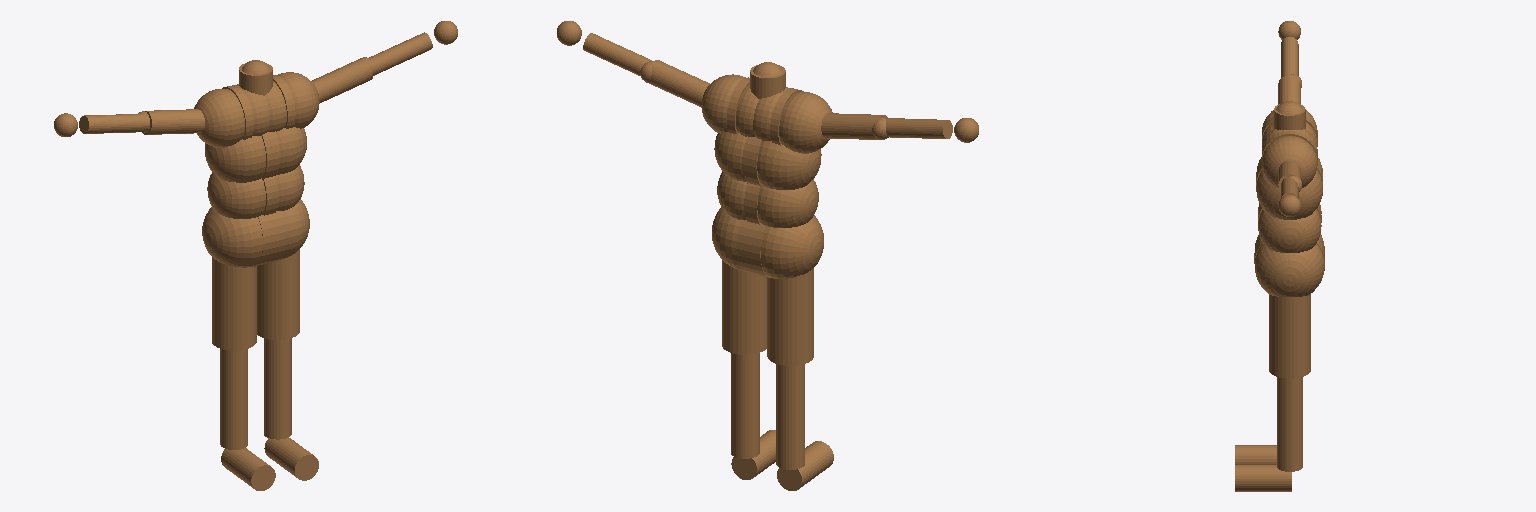
--- Facts derived from the render (not from the file) ---
3 views of the same robot in one strip: view 1: azimuth 30°, elevation 25°; view 2: azimuth 150°, elevation 25°; view 3: azimuth 270°, elevation 25° (orthographic).
Robot: assistive-human-extracted — 75 links, 74 joints (41 revolute, 33 fixed); root link base_link; default pose: joints at zero except 2 at the middle of their limits (joint11 = 1.77, joint18 = -1.77).
Links seen in each view (by area): view 1: link31, link38, link39, link32, link28---bottom-sphere, link3---bottom-sphere, base_link---bottom-sphere, link25---bottom-sphere, link35, link42, link20, link13 (+11 smaller); view 2: link31, link38, link32, link39, link28---bottom-sphere, link3---bottom-sphere, base_link---bottom-sphere, link25---bottom-sphere, link20, link6---top-sphere, link35, link13 (+13 smaller); view 3: link38, link28---top-sphere, link39, link25---top-sphere, link6---top-sphere, base_link---top-sphere, link42, link35, link15, link13, link7.
Link boxes in pixels (x1=…): link31: x1=212, y1=257, x2=256, y2=350; link38: x1=257, y1=249, x2=299, y2=339; link39: x1=264, y1=338, x2=291, y2=439; link32: x1=220, y1=349, x2=247, y2=449; link28---bottom-sphere: x1=202, y1=207, x2=262, y2=267; link3---bottom-sphere: x1=194, y1=89, x2=244, y2=147; base_link---bottom-sphere: x1=205, y1=136, x2=265, y2=182; link25---bottom-sphere: x1=207, y1=172, x2=265, y2=218; link35: x1=221, y1=448, x2=275, y2=490; link42: x1=264, y1=437, x2=318, y2=480; link20: x1=311, y1=58, x2=372, y2=102; link13: x1=142, y1=109, x2=204, y2=134; link31: x1=767, y1=268, x2=813, y2=365; link38: x1=722, y1=260, x2=766, y2=354; link32: x1=776, y1=364, x2=804, y2=469; link39: x1=731, y1=353, x2=759, y2=458; link28---bottom-sphere: x1=761, y1=215, x2=823, y2=278; link3---bottom-sphere: x1=779, y1=92, x2=832, y2=153; base_link---bottom-sphere: x1=757, y1=141, x2=821, y2=189; link25---bottom-sphere: x1=757, y1=179, x2=818, y2=227; link20: x1=649, y1=60, x2=709, y2=107; link6---top-sphere: x1=701, y1=74, x2=745, y2=133; link35: x1=777, y1=441, x2=833, y2=490; link13: x1=821, y1=113, x2=887, y2=139; link38: x1=1269, y1=294, x2=1310, y2=378; link28---top-sphere: x1=1255, y1=244, x2=1324, y2=296; link39: x1=1277, y1=377, x2=1302, y2=471; link25---top-sphere: x1=1258, y1=209, x2=1321, y2=252; link6---top-sphere: x1=1262, y1=136, x2=1317, y2=188; base_link---top-sphere: x1=1256, y1=170, x2=1322, y2=219; link42: x1=1235, y1=465, x2=1291, y2=491; link35: x1=1235, y1=445, x2=1276, y2=464; link15: x1=1281, y1=37, x2=1298, y2=77; link13: x1=1278, y1=75, x2=1300, y2=104; link7: x1=1274, y1=104, x2=1305, y2=129.
Bounding box of the posed robot: 1.64 × 0.341 × 1.58 m (x, y, z).
Geometry: only primitive shapes (box / cylinder / sphere) drawn; not drawn: 1 mesh visual (reference in a form the renderer does not follow).

The robot description file, URDF, robot "assistive-human-extracted":
<?xml version="1.0"?>
<robot name="assistive-human-extracted">
  <link name="base_link">
    <visual>
      <origin xyz="0.0 0.0 0.0" rpy="-0.0 1.5707963267948966 0.0"/>
      <geometry>
        <cylinder radius="0.127" length="0.056"/>
      </geometry>
      <material name="color-171-128-85-255">
        <color rgba="0.672940731048584 0.504705548286438 0.336470365524292 1.0"/>
      </material>
    </visual>
    <collision>
      <origin xyz="0.0 0.0 0.0" rpy="-0.0 1.5707963267948966 0.0"/>
      <geometry>
        <cylinder radius="0.127" length="0.056"/>
      </geometry>
    </collision>
    <inertial>
      <origin xyz="0.0 0.0 0.0" rpy="0.0 -0.0 0.0"/>
      <mass value="0.0"/>
      <inertia ixx="0.0" ixy="0.0" ixz="0.0" iyy="0.0" iyz="0.0" izz="0.0"/>
    </inertial>
  </link>
  <link name="base_link---top-sphere">
    <visual>
      <origin xyz="0 0 0" rpy="0.0 -0.0 0.0"/>
      <geometry>
        <sphere radius="0.127"/>
      </geometry>
      <material name="color-171-128-85-255">
        <color rgba="0.672940731048584 0.504705548286438 0.336470365524292 1.0"/>
      </material>
    </visual>
    <collision>
      <origin xyz="0 0 0" rpy="0.0 -0.0 0.0"/>
      <geometry>
        <sphere radius="0.127"/>
      </geometry>
    </collision>
    <inertial>
      <origin xyz="0 0 0" rpy="0.0 -0.0 0.0"/>
      <mass value="0.0"/>
      <inertia ixx="0" ixy="0.0" ixz="0.0" iyy="0" iyz="0.0" izz="0"/>
    </inertial>
  </link>
  <link name="base_link---bottom-sphere">
    <visual>
      <origin xyz="0 0 0" rpy="0.0 -0.0 0.0"/>
      <geometry>
        <sphere radius="0.127"/>
      </geometry>
      <material name="color-171-128-85-255">
        <color rgba="0.672940731048584 0.504705548286438 0.336470365524292 1.0"/>
      </material>
    </visual>
    <collision>
      <origin xyz="0 0 0" rpy="0.0 -0.0 0.0"/>
      <geometry>
        <sphere radius="0.127"/>
      </geometry>
    </collision>
    <inertial>
      <origin xyz="0 0 0" rpy="0.0 -0.0 0.0"/>
      <mass value="0.0"/>
      <inertia ixx="0" ixy="0.0" ixz="0.0" iyy="0" iyz="0.0" izz="0"/>
    </inertial>
  </link>
  <link name="link1">
    <inertial>
      <origin xyz="0.0 0.0 0.0" rpy="0.0 -0.0 0.0"/>
      <mass value="0.0"/>
      <inertia ixx="0.0" ixy="0.0" ixz="0.0" iyy="0.0" iyz="0.0" izz="0.0"/>
    </inertial>
  </link>
  <link name="link2">
    <inertial>
      <origin xyz="0.0 0.0 0.0" rpy="0.0 -0.0 0.0"/>
      <mass value="0.0"/>
      <inertia ixx="0.0" ixy="0.0" ixz="0.0" iyy="0.0" iyz="0.0" izz="0.0"/>
    </inertial>
  </link>
  <link name="link3">
    <visual>
      <origin xyz="-0.0853875 0.0 0.0" rpy="-0.0 1.5707963267948966 0.0"/>
      <geometry>
        <cylinder radius="0.106" length="0.031625"/>
      </geometry>
      <material name="color-171-128-85-255">
        <color rgba="0.672940731048584 0.504705548286438 0.336470365524292 1.0"/>
      </material>
    </visual>
    <collision>
      <origin xyz="-0.08538749814033508 0.0 0.0" rpy="-0.0 1.5707963267948966 0.0"/>
      <geometry>
        <cylinder radius="0.106" length="0.031625"/>
      </geometry>
    </collision>
    <inertial>
      <origin xyz="0.0 0.0 0.0" rpy="0.0 -0.0 0.0"/>
      <mass value="0.0"/>
      <inertia ixx="0.0" ixy="0.0" ixz="0.0" iyy="0.0" iyz="0.0" izz="0.0"/>
    </inertial>
  </link>
  <link name="link3---top-sphere">
    <visual>
      <origin xyz="0 0 0" rpy="0.0 -0.0 0.0"/>
      <geometry>
        <sphere radius="0.106"/>
      </geometry>
      <material name="color-171-128-85-255">
        <color rgba="0.672940731048584 0.504705548286438 0.336470365524292 1.0"/>
      </material>
    </visual>
    <collision>
      <origin xyz="0.0 0.0 0.0" rpy="0.0 -0.0 0.0"/>
      <geometry>
        <sphere radius="0.106"/>
      </geometry>
    </collision>
    <inertial>
      <origin xyz="0 0 0" rpy="0.0 -0.0 0.0"/>
      <mass value="0.0"/>
      <inertia ixx="0" ixy="0.0" ixz="0.0" iyy="0" iyz="0.0" izz="0"/>
    </inertial>
  </link>
  <link name="link3---bottom-sphere">
    <visual>
      <origin xyz="0 0 0" rpy="0.0 -0.0 0.0"/>
      <geometry>
        <sphere radius="0.106"/>
      </geometry>
      <material name="color-171-128-85-255">
        <color rgba="0.672940731048584 0.504705548286438 0.336470365524292 1.0"/>
      </material>
    </visual>
    <collision>
      <origin xyz="0.0 0.0 0.0" rpy="0.0 -0.0 0.0"/>
      <geometry>
        <sphere radius="0.106"/>
      </geometry>
    </collision>
    <inertial>
      <origin xyz="0 0 0" rpy="0.0 -0.0 0.0"/>
      <mass value="0.0"/>
      <inertia ixx="0" ixy="0.0" ixz="0.0" iyy="0" iyz="0.0" izz="0"/>
    </inertial>
  </link>
  <link name="link11">
    <inertial>
      <origin xyz="0.0 0.0 0.0" rpy="0.0 -0.0 0.0"/>
      <mass value="0.0"/>
      <inertia ixx="0.0" ixy="0.0" ixz="0.0" iyy="0.0" iyz="0.0" izz="0.0"/>
    </inertial>
  </link>
  <link name="link12">
    <inertial>
      <origin xyz="0.0 0.0 0.0" rpy="0.0 -0.0 0.0"/>
      <mass value="0.0"/>
      <inertia ixx="0.0" ixy="0.0" ixz="0.0" iyy="0.0" iyz="0.0" izz="0.0"/>
    </inertial>
  </link>
  <link name="link13">
    <visual>
      <origin xyz="0.0 0.0 -0.1395" rpy="0.0 -0.0 0.0"/>
      <geometry>
        <cylinder radius="0.043" length="0.279"/>
      </geometry>
      <material name="color-171-128-85-255">
        <color rgba="0.672940731048584 0.504705548286438 0.336470365524292 1.0"/>
      </material>
    </visual>
    <collision>
      <origin xyz="0.0 0.0 -0.13950000703334808" rpy="0.0 -0.0 0.0"/>
      <geometry>
        <cylinder radius="0.043" length="0.279"/>
      </geometry>
    </collision>
    <inertial>
      <origin xyz="0.0 0.0 0.0" rpy="0.0 -0.0 0.0"/>
      <mass value="0.0"/>
      <inertia ixx="0.0" ixy="0.0" ixz="0.0" iyy="0.0" iyz="0.0" izz="0.0"/>
    </inertial>
  </link>
  <link name="link13---top-sphere">
    <visual>
      <origin xyz="0 0 0" rpy="0.0 -0.0 0.0"/>
      <geometry>
        <sphere radius="0.043"/>
      </geometry>
      <material name="color-171-128-85-255">
        <color rgba="0.672940731048584 0.504705548286438 0.336470365524292 1.0"/>
      </material>
    </visual>
    <collision>
      <origin xyz="0.0 0.0 0.0" rpy="0.0 -0.0 0.0"/>
      <geometry>
        <sphere radius="0.043"/>
      </geometry>
    </collision>
    <inertial>
      <origin xyz="0 0 0" rpy="0.0 -0.0 0.0"/>
      <mass value="0.0"/>
      <inertia ixx="0" ixy="0.0" ixz="0.0" iyy="0" iyz="0.0" izz="0"/>
    </inertial>
  </link>
  <link name="link13---bottom-sphere">
    <visual>
      <origin xyz="0 0 0" rpy="0.0 -0.0 0.0"/>
      <geometry>
        <sphere radius="0.043"/>
      </geometry>
      <material name="color-171-128-85-255">
        <color rgba="0.672940731048584 0.504705548286438 0.336470365524292 1.0"/>
      </material>
    </visual>
    <collision>
      <origin xyz="0.0 0.0 0.0" rpy="0.0 -0.0 0.0"/>
      <geometry>
        <sphere radius="0.043"/>
      </geometry>
    </collision>
    <inertial>
      <origin xyz="0 0 0" rpy="0.0 -0.0 0.0"/>
      <mass value="0.0"/>
      <inertia ixx="0" ixy="0.0" ixz="0.0" iyy="0" iyz="0.0" izz="0"/>
    </inertial>
  </link>
  <link name="link14">
    <visual>
      <origin xyz="0.0 0.01 0.0" rpy="0.0 -0.0 0.0"/>
      <geometry>
        <sphere radius="0.038"/>
      </geometry>
      <material name="color-171-128-85-255">
        <color rgba="0.672940731048584 0.504705548286438 0.336470365524292 1.0"/>
      </material>
    </visual>
    <inertial>
      <origin xyz="0.0 0.0 0.0" rpy="0.0 -0.0 0.0"/>
      <mass value="0.0"/>
      <inertia ixx="0.0" ixy="0.0" ixz="0.0" iyy="0.0" iyz="0.0" izz="0.0"/>
    </inertial>
  </link>
  <link name="link15">
    <visual>
      <origin xyz="0.0 0.0 -0.1285" rpy="0.0 -0.0 0.0"/>
      <geometry>
        <cylinder radius="0.033" length="0.257"/>
      </geometry>
      <material name="color-171-128-85-255">
        <color rgba="0.672940731048584 0.504705548286438 0.336470365524292 1.0"/>
      </material>
    </visual>
    <collision>
      <origin xyz="0.0 0.0 -0.12849999964237213" rpy="0.0 -0.0 0.0"/>
      <geometry>
        <cylinder radius="0.033" length="0.257"/>
      </geometry>
    </collision>
    <inertial>
      <origin xyz="0.0 0.0 0.0" rpy="0.0 -0.0 0.0"/>
      <mass value="0.0"/>
      <inertia ixx="0.0" ixy="0.0" ixz="0.0" iyy="0.0" iyz="0.0" izz="0.0"/>
    </inertial>
  </link>
  <link name="link15---top-sphere">
    <visual>
      <origin xyz="0 0 0" rpy="0.0 -0.0 0.0"/>
      <geometry>
        <sphere radius="0.033"/>
      </geometry>
      <material name="color-171-128-85-255">
        <color rgba="0.672940731048584 0.504705548286438 0.336470365524292 1.0"/>
      </material>
    </visual>
    <collision>
      <origin xyz="0.0 0.0 0.0" rpy="0.0 -0.0 0.0"/>
      <geometry>
        <sphere radius="0.033"/>
      </geometry>
    </collision>
    <inertial>
      <origin xyz="0 0 0" rpy="0.0 -0.0 0.0"/>
      <mass value="0.0"/>
      <inertia ixx="0" ixy="0.0" ixz="0.0" iyy="0" iyz="0.0" izz="0"/>
    </inertial>
  </link>
  <link name="link15---bottom-sphere">
    <visual>
      <origin xyz="0 0 0" rpy="0.0 -0.0 0.0"/>
      <geometry>
        <sphere radius="0.033"/>
      </geometry>
      <material name="color-171-128-85-255">
        <color rgba="0.672940731048584 0.504705548286438 0.336470365524292 1.0"/>
      </material>
    </visual>
    <collision>
      <origin xyz="0.0 0.0 0.0" rpy="0.0 -0.0 0.0"/>
      <geometry>
        <sphere radius="0.033"/>
      </geometry>
    </collision>
    <inertial>
      <origin xyz="0 0 0" rpy="0.0 -0.0 0.0"/>
      <mass value="0.0"/>
      <inertia ixx="0" ixy="0.0" ixz="0.0" iyy="0" iyz="0.0" izz="0"/>
    </inertial>
  </link>
  <link name="link16">
    <inertial>
      <origin xyz="0.0 0.0 0.0" rpy="0.0 -0.0 0.0"/>
      <mass value="0.0"/>
      <inertia ixx="0.0" ixy="0.0" ixz="0.0" iyy="0.0" iyz="0.0" izz="0.0"/>
    </inertial>
  </link>
  <link name="link17">
    <visual>
      <origin xyz="0.0 0.0 -0.043" rpy="0.0 -0.0 0.0"/>
      <geometry>
        <sphere radius="0.043"/>
      </geometry>
      <material name="color-171-128-85-255">
        <color rgba="0.672940731048584 0.504705548286438 0.336470365524292 1.0"/>
      </material>
    </visual>
    <collision>
      <origin xyz="0.0 0.0 -0.0430000014603138" rpy="0.0 -0.0 0.0"/>
      <geometry>
        <sphere radius="0.043"/>
      </geometry>
    </collision>
    <inertial>
      <origin xyz="0.0 0.0 0.0" rpy="0.0 -0.0 0.0"/>
      <mass value="0.0"/>
      <inertia ixx="0.0" ixy="0.0" ixz="0.0" iyy="0.0" iyz="0.0" izz="0.0"/>
    </inertial>
  </link>
  <link name="link4">
    <inertial>
      <origin xyz="0.0 0.0 0.0" rpy="0.0 -0.0 0.0"/>
      <mass value="0.0"/>
      <inertia ixx="0.0" ixy="0.0" ixz="0.0" iyy="0.0" iyz="0.0" izz="0.0"/>
    </inertial>
  </link>
  <link name="link5">
    <inertial>
      <origin xyz="0.0 0.0 0.0" rpy="0.0 -0.0 0.0"/>
      <mass value="0.0"/>
      <inertia ixx="0.0" ixy="0.0" ixz="0.0" iyy="0.0" iyz="0.0" izz="0.0"/>
    </inertial>
  </link>
  <link name="link6">
    <visual>
      <origin xyz="0.0853875 0.0 0.0" rpy="-0.0 1.5707963267948966 0.0"/>
      <geometry>
        <cylinder radius="0.106" length="0.031625"/>
      </geometry>
      <material name="color-171-128-85-255">
        <color rgba="0.672940731048584 0.504705548286438 0.336470365524292 1.0"/>
      </material>
    </visual>
    <collision>
      <origin xyz="0.08538749814033508 0.0 0.0" rpy="-0.0 1.5707963267948966 0.0"/>
      <geometry>
        <cylinder radius="0.106" length="0.031625"/>
      </geometry>
    </collision>
    <inertial>
      <origin xyz="0.0 0.0 0.0" rpy="0.0 -0.0 0.0"/>
      <mass value="0.0"/>
      <inertia ixx="0.0" ixy="0.0" ixz="0.0" iyy="0.0" iyz="0.0" izz="0.0"/>
    </inertial>
  </link>
  <link name="link6---top-sphere">
    <visual>
      <origin xyz="0 0 0" rpy="0.0 -0.0 0.0"/>
      <geometry>
        <sphere radius="0.106"/>
      </geometry>
      <material name="color-171-128-85-255">
        <color rgba="0.672940731048584 0.504705548286438 0.336470365524292 1.0"/>
      </material>
    </visual>
    <collision>
      <origin xyz="0.0 0.0 0.0" rpy="0.0 -0.0 0.0"/>
      <geometry>
        <sphere radius="0.106"/>
      </geometry>
    </collision>
    <inertial>
      <origin xyz="0 0 0" rpy="0.0 -0.0 0.0"/>
      <mass value="0.0"/>
      <inertia ixx="0" ixy="0.0" ixz="0.0" iyy="0" iyz="0.0" izz="0"/>
    </inertial>
  </link>
  <link name="link6---bottom-sphere">
    <visual>
      <origin xyz="0 0 0" rpy="0.0 -0.0 0.0"/>
      <geometry>
        <sphere radius="0.106"/>
      </geometry>
      <material name="color-171-128-85-255">
        <color rgba="0.672940731048584 0.504705548286438 0.336470365524292 1.0"/>
      </material>
    </visual>
    <collision>
      <origin xyz="0.0 0.0 0.0" rpy="0.0 -0.0 0.0"/>
      <geometry>
        <sphere radius="0.106"/>
      </geometry>
    </collision>
    <inertial>
      <origin xyz="0 0 0" rpy="0.0 -0.0 0.0"/>
      <mass value="0.0"/>
      <inertia ixx="0" ixy="0.0" ixz="0.0" iyy="0" iyz="0.0" izz="0"/>
    </inertial>
  </link>
  <link name="link18">
    <inertial>
      <origin xyz="0.0 0.0 0.0" rpy="0.0 -0.0 0.0"/>
      <mass value="0.0"/>
      <inertia ixx="0.0" ixy="0.0" ixz="0.0" iyy="0.0" iyz="0.0" izz="0.0"/>
    </inertial>
  </link>
  <link name="link19">
    <inertial>
      <origin xyz="0.0 0.0 0.0" rpy="0.0 -0.0 0.0"/>
      <mass value="0.0"/>
      <inertia ixx="0.0" ixy="0.0" ixz="0.0" iyy="0.0" iyz="0.0" izz="0.0"/>
    </inertial>
  </link>
  <link name="link20">
    <visual>
      <origin xyz="0.0 0.0 -0.1395" rpy="0.0 -0.0 0.0"/>
      <geometry>
        <cylinder radius="0.043" length="0.279"/>
      </geometry>
      <material name="color-171-128-85-255">
        <color rgba="0.672940731048584 0.504705548286438 0.336470365524292 1.0"/>
      </material>
    </visual>
    <collision>
      <origin xyz="0.0 0.0 -0.13950000703334808" rpy="0.0 -0.0 0.0"/>
      <geometry>
        <cylinder radius="0.043" length="0.279"/>
      </geometry>
    </collision>
    <inertial>
      <origin xyz="0.0 0.0 0.0" rpy="0.0 -0.0 0.0"/>
      <mass value="0.0"/>
      <inertia ixx="0.0" ixy="0.0" ixz="0.0" iyy="0.0" iyz="0.0" izz="0.0"/>
    </inertial>
  </link>
  <link name="link20---top-sphere">
    <visual>
      <origin xyz="0 0 0" rpy="0.0 -0.0 0.0"/>
      <geometry>
        <sphere radius="0.043"/>
      </geometry>
      <material name="color-171-128-85-255">
        <color rgba="0.672940731048584 0.504705548286438 0.336470365524292 1.0"/>
      </material>
    </visual>
    <collision>
      <origin xyz="0.0 0.0 0.0" rpy="0.0 -0.0 0.0"/>
      <geometry>
        <sphere radius="0.043"/>
      </geometry>
    </collision>
    <inertial>
      <origin xyz="0 0 0" rpy="0.0 -0.0 0.0"/>
      <mass value="0.0"/>
      <inertia ixx="0" ixy="0.0" ixz="0.0" iyy="0" iyz="0.0" izz="0"/>
    </inertial>
  </link>
  <link name="link20---bottom-sphere">
    <visual>
      <origin xyz="0 0 0" rpy="0.0 -0.0 0.0"/>
      <geometry>
        <sphere radius="0.043"/>
      </geometry>
      <material name="color-171-128-85-255">
        <color rgba="0.672940731048584 0.504705548286438 0.336470365524292 1.0"/>
      </material>
    </visual>
    <collision>
      <origin xyz="0.0 0.0 0.0" rpy="0.0 -0.0 0.0"/>
      <geometry>
        <sphere radius="0.043"/>
      </geometry>
    </collision>
    <inertial>
      <origin xyz="0 0 0" rpy="0.0 -0.0 0.0"/>
      <mass value="0.0"/>
      <inertia ixx="0" ixy="0.0" ixz="0.0" iyy="0" iyz="0.0" izz="0"/>
    </inertial>
  </link>
  <link name="link21">
    <visual>
      <origin xyz="0.0 0.01 0.0" rpy="0.0 -0.0 0.0"/>
      <geometry>
        <sphere radius="0.038"/>
      </geometry>
      <material name="color-171-128-85-255">
        <color rgba="0.672940731048584 0.504705548286438 0.336470365524292 1.0"/>
      </material>
    </visual>
    <inertial>
      <origin xyz="0.0 0.0 0.0" rpy="0.0 -0.0 0.0"/>
      <mass value="0.0"/>
      <inertia ixx="0.0" ixy="0.0" ixz="0.0" iyy="0.0" iyz="0.0" izz="0.0"/>
    </inertial>
  </link>
  <link name="link22">
    <visual>
      <origin xyz="0.0 0.0 -0.1285" rpy="0.0 -0.0 0.0"/>
      <geometry>
        <cylinder radius="0.033" length="0.257"/>
      </geometry>
      <material name="color-171-128-85-255">
        <color rgba="0.672940731048584 0.504705548286438 0.336470365524292 1.0"/>
      </material>
    </visual>
    <collision>
      <origin xyz="0.0 0.0 -0.12849999964237213" rpy="0.0 -0.0 0.0"/>
      <geometry>
        <cylinder radius="0.033" length="0.257"/>
      </geometry>
    </collision>
    <inertial>
      <origin xyz="0.0 0.0 0.0" rpy="0.0 -0.0 0.0"/>
      <mass value="0.0"/>
      <inertia ixx="0.0" ixy="0.0" ixz="0.0" iyy="0.0" iyz="0.0" izz="0.0"/>
    </inertial>
  </link>
  <link name="link22---top-sphere">
    <visual>
      <origin xyz="0 0 0" rpy="0.0 -0.0 0.0"/>
      <geometry>
        <sphere radius="0.033"/>
      </geometry>
      <material name="color-171-128-85-255">
        <color rgba="0.672940731048584 0.504705548286438 0.336470365524292 1.0"/>
      </material>
    </visual>
    <collision>
      <origin xyz="0.0 0.0 0.0" rpy="0.0 -0.0 0.0"/>
      <geometry>
        <sphere radius="0.033"/>
      </geometry>
    </collision>
    <inertial>
      <origin xyz="0 0 0" rpy="0.0 -0.0 0.0"/>
      <mass value="0.0"/>
      <inertia ixx="0" ixy="0.0" ixz="0.0" iyy="0" iyz="0.0" izz="0"/>
    </inertial>
  </link>
  <link name="link22---bottom-sphere">
    <visual>
      <origin xyz="0 0 0" rpy="0.0 -0.0 0.0"/>
      <geometry>
        <sphere radius="0.033"/>
      </geometry>
      <material name="color-171-128-85-255">
        <color rgba="0.672940731048584 0.504705548286438 0.336470365524292 1.0"/>
      </material>
    </visual>
    <collision>
      <origin xyz="0.0 0.0 0.0" rpy="0.0 -0.0 0.0"/>
      <geometry>
        <sphere radius="0.033"/>
      </geometry>
    </collision>
    <inertial>
      <origin xyz="0 0 0" rpy="0.0 -0.0 0.0"/>
      <mass value="0.0"/>
      <inertia ixx="0" ixy="0.0" ixz="0.0" iyy="0" iyz="0.0" izz="0"/>
    </inertial>
  </link>
  <link name="link23">
    <inertial>
      <origin xyz="0.0 0.0 0.0" rpy="0.0 -0.0 0.0"/>
      <mass value="0.0"/>
      <inertia ixx="0.0" ixy="0.0" ixz="0.0" iyy="0.0" iyz="0.0" izz="0.0"/>
    </inertial>
  </link>
  <link name="link24">
    <visual>
      <origin xyz="0.0 0.0 -0.043" rpy="0.0 -0.0 0.0"/>
      <geometry>
        <sphere radius="0.043"/>
      </geometry>
      <material name="color-171-128-85-255">
        <color rgba="0.672940731048584 0.504705548286438 0.336470365524292 1.0"/>
      </material>
    </visual>
    <collision>
      <origin xyz="0.0 0.0 -0.0430000014603138" rpy="0.0 -0.0 0.0"/>
      <geometry>
        <sphere radius="0.043"/>
      </geometry>
    </collision>
    <inertial>
      <origin xyz="0.0 0.0 0.0" rpy="0.0 -0.0 0.0"/>
      <mass value="0.0"/>
      <inertia ixx="0.0" ixy="0.0" ixz="0.0" iyy="0.0" iyz="0.0" izz="0.0"/>
    </inertial>
  </link>
  <link name="link7">
    <visual>
      <origin xyz="0.0 0.0 0.09000000000000002" rpy="0.0 -0.0 0.0"/>
      <geometry>
        <cylinder radius="0.06" length="0.124"/>
      </geometry>
      <material name="color-171-128-85-255">
        <color rgba="0.672940731048584 0.504705548286438 0.336470365524292 1.0"/>
      </material>
    </visual>
    <collision>
      <origin xyz="0.0 0.0 0.09000000357627869" rpy="0.0 -0.0 0.0"/>
      <geometry>
        <cylinder radius="0.06" length="0.124"/>
      </geometry>
    </collision>
    <inertial>
      <origin xyz="0.0 0.0 0.0" rpy="0.0 -0.0 0.0"/>
      <mass value="0.0"/>
      <inertia ixx="0.0" ixy="0.0" ixz="0.0" iyy="0.0" iyz="0.0" izz="0.0"/>
    </inertial>
  </link>
  <link name="link7---top-sphere">
    <visual>
      <origin xyz="0 0 0" rpy="0.0 -0.0 0.0"/>
      <geometry>
        <sphere radius="0.06"/>
      </geometry>
      <material name="color-171-128-85-255">
        <color rgba="0.672940731048584 0.504705548286438 0.336470365524292 1.0"/>
      </material>
    </visual>
    <collision>
      <origin xyz="0.0 0.0 0.0" rpy="0.0 -0.0 0.0"/>
      <geometry>
        <sphere radius="0.06"/>
      </geometry>
    </collision>
    <inertial>
      <origin xyz="0 0 0" rpy="0.0 -0.0 0.0"/>
      <mass value="0.0"/>
      <inertia ixx="0" ixy="0.0" ixz="0.0" iyy="0" iyz="0.0" izz="0"/>
    </inertial>
  </link>
  <link name="link7---bottom-sphere">
    <visual>
      <origin xyz="0 0 0" rpy="0.0 -0.0 0.0"/>
      <geometry>
        <sphere radius="0.06"/>
      </geometry>
      <material name="color-171-128-85-255">
        <color rgba="0.672940731048584 0.504705548286438 0.336470365524292 1.0"/>
      </material>
    </visual>
    <collision>
      <origin xyz="0.0 0.0 0.0" rpy="0.0 -0.0 0.0"/>
      <geometry>
        <sphere radius="0.06"/>
      </geometry>
    </collision>
    <inertial>
      <origin xyz="0 0 0" rpy="0.0 -0.0 0.0"/>
      <mass value="0.0"/>
      <inertia ixx="0" ixy="0.0" ixz="0.0" iyy="0" iyz="0.0" izz="0"/>
    </inertial>
  </link>
  <link name="link8">
    <inertial>
      <origin xyz="0.0 0.0 0.0" rpy="0.0 -0.0 0.0"/>
      <mass value="0.0"/>
      <inertia ixx="0.0" ixy="0.0" ixz="0.0" iyy="0.0" iyz="0.0" izz="0.0"/>
    </inertial>
  </link>
  <link name="link9">
    <inertial>
      <origin xyz="0.0 0.0 0.0" rpy="0.0 -0.0 0.0"/>
      <mass value="0.0"/>
      <inertia ixx="0.0" ixy="0.0" ixz="0.0" iyy="0.0" iyz="0.0" izz="0.0"/>
    </inertial>
  </link>
  <link name="link10">
    <visual>
      <origin xyz="0.09 0.08 -0.060000000000000005" rpy="1.5707963267948966 -0.0 0.0"/>
      <geometry>
        <mesh filename="[local-path]/multitask-personalization/venv/lib/python3.10/site-packages/assistive_gym/envs/assets/head_female_male/BaseHeadMeshes_v5_male_cropped_reduced_compressed.obj" scale="0.89 0.89 0.89"/>
      </geometry>
      <material name="color-171-128-85-255">
        <color rgba="0.672940731048584 0.504705548286438 0.336470365524292 1.0"/>
      </material>
    </visual>
    <collision>
      <origin xyz="0.09000000357627869 0.07999999821186066 -0.05999999865889549" rpy="1.5707963267948966 -0.0 0.0"/>
      <geometry>
        <sphere radius="0.89"/>
      </geometry>
    </collision>
    <inertial>
      <origin xyz="0.0 0.0 0.0" rpy="0.0 -0.0 0.0"/>
      <mass value="0.0"/>
      <inertia ixx="0.0" ixy="0.0" ixz="0.0" iyy="0.0" iyz="0.0" izz="0.0"/>
    </inertial>
  </link>
  <link name="link25">
    <visual>
      <origin xyz="0.0 0.0 0.0" rpy="-0.0 1.5707963267948966 0.0"/>
      <geometry>
        <cylinder radius="0.1205" length="0.049"/>
      </geometry>
      <material name="color-171-128-85-255">
        <color rgba="0.672940731048584 0.504705548286438 0.336470365524292 1.0"/>
      </material>
    </visual>
    <collision>
      <origin xyz="0.0 0.0 0.0" rpy="-0.0 1.5707963267948966 0.0"/>
      <geometry>
        <cylinder radius="0.1205" length="0.049"/>
      </geometry>
    </collision>
    <inertial>
      <origin xyz="0.0 0.0 0.0" rpy="0.0 -0.0 0.0"/>
      <mass value="0.0"/>
      <inertia ixx="0.0" ixy="0.0" ixz="0.0" iyy="0.0" iyz="0.0" izz="0.0"/>
    </inertial>
  </link>
  <link name="link25---top-sphere">
    <visual>
      <origin xyz="0 0 0" rpy="0.0 -0.0 0.0"/>
      <geometry>
        <sphere radius="0.1205"/>
      </geometry>
      <material name="color-171-128-85-255">
        <color rgba="0.672940731048584 0.504705548286438 0.336470365524292 1.0"/>
      </material>
    </visual>
    <collision>
      <origin xyz="0.0 0.0 0.0" rpy="0.0 -0.0 0.0"/>
      <geometry>
        <sphere radius="0.1205"/>
      </geometry>
    </collision>
    <inertial>
      <origin xyz="0 0 0" rpy="0.0 -0.0 0.0"/>
      <mass value="0.0"/>
      <inertia ixx="0" ixy="0.0" ixz="0.0" iyy="0" iyz="0.0" izz="0"/>
    </inertial>
  </link>
  <link name="link25---bottom-sphere">
    <visual>
      <origin xyz="0 0 0" rpy="0.0 -0.0 0.0"/>
      <geometry>
        <sphere radius="0.1205"/>
      </geometry>
      <material name="color-171-128-85-255">
        <color rgba="0.672940731048584 0.504705548286438 0.336470365524292 1.0"/>
      </material>
    </visual>
    <collision>
      <origin xyz="0.0 0.0 0.0" rpy="0.0 -0.0 0.0"/>
      <geometry>
        <sphere radius="0.1205"/>
      </geometry>
    </collision>
    <inertial>
      <origin xyz="0 0 0" rpy="0.0 -0.0 0.0"/>
      <mass value="0.0"/>
      <inertia ixx="0" ixy="0.0" ixz="0.0" iyy="0" iyz="0.0" izz="0"/>
    </inertial>
  </link>
  <link name="link26">
    <inertial>
      <origin xyz="0.0 0.0 0.0" rpy="0.0 -0.0 0.0"/>
      <mass value="0.0"/>
      <inertia ixx="0.0" ixy="0.0" ixz="0.0" iyy="0.0" iyz="0.0" izz="0.0"/>
    </inertial>
  </link>
  <link name="link27">
    <inertial>
      <origin xyz="0.0 0.0 0.0" rpy="0.0 -0.0 0.0"/>
      <mass value="0.0"/>
      <inertia ixx="0.0" ixy="0.0" ixz="0.0" iyy="0.0" iyz="0.0" izz="0.0"/>
    </inertial>
  </link>
  <link name="link28">
    <visual>
      <origin xyz="0.0 0.0 -0.08125" rpy="-0.0 1.5707963267948966 0.0"/>
      <geometry>
        <cylinder radius="0.1335" length="0.094"/>
      </geometry>
      <material name="color-171-128-85-255">
        <color rgba="0.672940731048584 0.504705548286438 0.336470365524292 1.0"/>
      </material>
    </visual>
    <collision>
      <origin xyz="0.0 0.0 -0.08124999701976776" rpy="-0.0 1.5707963267948966 0.0"/>
      <geometry>
        <cylinder radius="0.1335" length="0.094"/>
      </geometry>
    </collision>
    <inertial>
      <origin xyz="0.0 0.0 0.0" rpy="0.0 -0.0 0.0"/>
      <mass value="0.0"/>
      <inertia ixx="0.0" ixy="0.0" ixz="0.0" iyy="0.0" iyz="0.0" izz="0.0"/>
    </inertial>
  </link>
  <link name="link28---top-sphere">
    <visual>
      <origin xyz="0 0 0" rpy="0.0 -0.0 0.0"/>
      <geometry>
        <sphere radius="0.1335"/>
      </geometry>
      <material name="color-171-128-85-255">
        <color rgba="0.672940731048584 0.504705548286438 0.336470365524292 1.0"/>
      </material>
    </visual>
    <collision>
      <origin xyz="0.0 0.0 0.0" rpy="0.0 -0.0 0.0"/>
      <geometry>
        <sphere radius="0.1335"/>
      </geometry>
    </collision>
    <inertial>
      <origin xyz="0 0 0" rpy="0.0 -0.0 0.0"/>
      <mass value="0.0"/>
      <inertia ixx="0" ixy="0.0" ixz="0.0" iyy="0" iyz="0.0" izz="0"/>
    </inertial>
  </link>
  <link name="link28---bottom-sphere">
    <visual>
      <origin xyz="0 0 0" rpy="0.0 -0.0 0.0"/>
      <geometry>
        <sphere radius="0.1335"/>
      </geometry>
      <material name="color-171-128-85-255">
        <color rgba="0.672940731048584 0.504705548286438 0.336470365524292 1.0"/>
      </material>
    </visual>
    <collision>
      <origin xyz="0.0 0.0 0.0" rpy="0.0 -0.0 0.0"/>
      <geometry>
        <sphere radius="0.1335"/>
      </geometry>
    </collision>
    <inertial>
      <origin xyz="0 0 0" rpy="0.0 -0.0 0.0"/>
      <mass value="0.0"/>
      <inertia ixx="0" ixy="0.0" ixz="0.0" iyy="0" iyz="0.0" izz="0"/>
    </inertial>
  </link>
  <link name="link29">
    <inertial>
      <origin xyz="0.0 0.0 0.0" rpy="0.0 -0.0 0.0"/>
      <mass value="0.0"/>
      <inertia ixx="0.0" ixy="0.0" ixz="0.0" iyy="0.0" iyz="0.0" izz="0.0"/>
    </inertial>
  </link>
  <link name="link30">
    <inertial>
      <origin xyz="0.0 0.0 0.0" rpy="0.0 -0.0 0.0"/>
      <mass value="0.0"/>
      <inertia ixx="0.0" ixy="0.0" ixz="0.0" iyy="0.0" iyz="0.0" izz="0.0"/>
    </inertial>
  </link>
  <link name="link31">
    <visual>
      <origin xyz="0.0 0.0 -0.212" rpy="0.0 -0.0 0.0"/>
      <geometry>
        <cylinder radius="0.08" length="0.424"/>
      </geometry>
      <material name="color-171-128-85-255">
        <color rgba="0.672940731048584 0.504705548286438 0.336470365524292 1.0"/>
      </material>
    </visual>
    <collision>
      <origin xyz="0.0 0.0 -0.21199999749660492" rpy="0.0 -0.0 0.0"/>
      <geometry>
        <cylinder radius="0.08" length="0.424"/>
      </geometry>
    </collision>
    <inertial>
      <origin xyz="0.0 0.0 0.0" rpy="0.0 -0.0 0.0"/>
      <mass value="0.0"/>
      <inertia ixx="0.0" ixy="0.0" ixz="0.0" iyy="0.0" iyz="0.0" izz="0.0"/>
    </inertial>
  </link>
  <link name="link31---top-sphere">
    <visual>
      <origin xyz="0 0 0" rpy="0.0 -0.0 0.0"/>
      <geometry>
        <sphere radius="0.08"/>
      </geometry>
      <material name="color-171-128-85-255">
        <color rgba="0.672940731048584 0.504705548286438 0.336470365524292 1.0"/>
      </material>
    </visual>
    <collision>
      <origin xyz="0.0 0.0 0.0" rpy="0.0 -0.0 0.0"/>
      <geometry>
        <sphere radius="0.08"/>
      </geometry>
    </collision>
    <inertial>
      <origin xyz="0 0 0" rpy="0.0 -0.0 0.0"/>
      <mass value="0.0"/>
      <inertia ixx="0" ixy="0.0" ixz="0.0" iyy="0" iyz="0.0" izz="0"/>
    </inertial>
  </link>
  <link name="link31---bottom-sphere">
    <visual>
      <origin xyz="0 0 0" rpy="0.0 -0.0 0.0"/>
      <geometry>
        <sphere radius="0.08"/>
      </geometry>
      <material name="color-171-128-85-255">
        <color rgba="0.672940731048584 0.504705548286438 0.336470365524292 1.0"/>
      </material>
    </visual>
    <collision>
      <origin xyz="0.0 0.0 0.0" rpy="0.0 -0.0 0.0"/>
      <geometry>
        <sphere radius="0.08"/>
      </geometry>
    </collision>
    <inertial>
      <origin xyz="0 0 0" rpy="0.0 -0.0 0.0"/>
      <mass value="0.0"/>
      <inertia ixx="0" ixy="0.0" ixz="0.0" iyy="0" iyz="0.0" izz="0"/>
    </inertial>
  </link>
  <link name="link32">
    <visual>
      <origin xyz="0.0 0.0 -0.2015" rpy="0.0 -0.0 0.0"/>
      <geometry>
        <cylinder radius="0.05" length="0.403"/>
      </geometry>
      <material name="color-171-128-85-255">
        <color rgba="0.672940731048584 0.504705548286438 0.336470365524292 1.0"/>
      </material>
    </visual>
    <collision>
      <origin xyz="0.0 0.0 -0.20149999856948853" rpy="0.0 -0.0 0.0"/>
      <geometry>
        <cylinder radius="0.05" length="0.403"/>
      </geometry>
    </collision>
    <inertial>
      <origin xyz="0.0 0.0 0.0" rpy="0.0 -0.0 0.0"/>
      <mass value="0.0"/>
      <inertia ixx="0.0" ixy="0.0" ixz="0.0" iyy="0.0" iyz="0.0" izz="0.0"/>
    </inertial>
  </link>
  <link name="link32---top-sphere">
    <visual>
      <origin xyz="0 0 0" rpy="0.0 -0.0 0.0"/>
      <geometry>
        <sphere radius="0.05"/>
      </geometry>
      <material name="color-171-128-85-255">
        <color rgba="0.672940731048584 0.504705548286438 0.336470365524292 1.0"/>
      </material>
    </visual>
    <collision>
      <origin xyz="0.0 0.0 0.0" rpy="0.0 -0.0 0.0"/>
      <geometry>
        <sphere radius="0.05"/>
      </geometry>
    </collision>
    <inertial>
      <origin xyz="0 0 0" rpy="0.0 -0.0 0.0"/>
      <mass value="0.0"/>
      <inertia ixx="0" ixy="0.0" ixz="0.0" iyy="0" iyz="0.0" izz="0"/>
    </inertial>
  </link>
  <link name="link32---bottom-sphere">
    <visual>
      <origin xyz="0 0 0" rpy="0.0 -0.0 0.0"/>
      <geometry>
        <sphere radius="0.05"/>
      </geometry>
      <material name="color-171-128-85-255">
        <color rgba="0.672940731048584 0.504705548286438 0.336470365524292 1.0"/>
      </material>
    </visual>
    <collision>
      <origin xyz="0.0 0.0 0.0" rpy="0.0 -0.0 0.0"/>
      <geometry>
        <sphere radius="0.05"/>
      </geometry>
    </collision>
    <inertial>
      <origin xyz="0 0 0" rpy="0.0 -0.0 0.0"/>
      <mass value="0.0"/>
      <inertia ixx="0" ixy="0.0" ixz="0.0" iyy="0" iyz="0.0" izz="0"/>
    </inertial>
  </link>
  <link name="link33">
    <inertial>
      <origin xyz="0.0 0.0 0.0" rpy="0.0 -0.0 0.0"/>
      <mass value="0.0"/>
      <inertia ixx="0.0" ixy="0.0" ixz="0.0" iyy="0.0" iyz="0.0" izz="0.0"/>
    </inertial>
  </link>
  <link name="link34">
    <inertial>
      <origin xyz="0.0 0.0 0.0" rpy="0.0 -0.0 0.0"/>
      <mass value="0.0"/>
      <inertia ixx="0.0" ixy="0.0" ixz="0.0" iyy="0.0" iyz="0.0" izz="0.0"/>
    </inertial>
  </link>
  <link name="link35">
    <visual>
      <origin xyz="0.0 -0.1 -0.025" rpy="1.5707963267948966 -0.0 0.0"/>
      <geometry>
        <cylinder radius="0.05" length="0.215"/>
      </geometry>
      <material name="color-171-128-85-255">
        <color rgba="0.672940731048584 0.504705548286438 0.336470365524292 1.0"/>
      </material>
    </visual>
    <collision>
      <origin xyz="0.0 -0.10000000149011612 -0.02500000037252903" rpy="1.5707963267948966 -0.0 0.0"/>
      <geometry>
        <cylinder radius="0.05" length="0.215"/>
      </geometry>
    </collision>
    <inertial>
      <origin xyz="0.0 0.0 0.0" rpy="0.0 -0.0 0.0"/>
      <mass value="0.0"/>
      <inertia ixx="0.0" ixy="0.0" ixz="0.0" iyy="0.0" iyz="0.0" izz="0.0"/>
    </inertial>
  </link>
  <link name="link35---top-sphere">
    <visual>
      <origin xyz="0 0 0" rpy="0.0 -0.0 0.0"/>
      <geometry>
        <sphere radius="0.05"/>
      </geometry>
      <material name="color-171-128-85-255">
        <color rgba="0.672940731048584 0.504705548286438 0.336470365524292 1.0"/>
      </material>
    </visual>
    <collision>
      <origin xyz="0.0 0.0 0.0" rpy="0.0 -0.0 0.0"/>
      <geometry>
        <sphere radius="0.05"/>
      </geometry>
    </collision>
    <inertial>
      <origin xyz="0 0 0" rpy="0.0 -0.0 0.0"/>
      <mass value="0.0"/>
      <inertia ixx="0" ixy="0.0" ixz="0.0" iyy="0" iyz="0.0" izz="0"/>
    </inertial>
  </link>
  <link name="link35---bottom-sphere">
    <visual>
      <origin xyz="0 0 0" rpy="0.0 -0.0 0.0"/>
      <geometry>
        <sphere radius="0.05"/>
      </geometry>
      <material name="color-171-128-85-255">
        <color rgba="0.672940731048584 0.504705548286438 0.336470365524292 1.0"/>
      </material>
    </visual>
    <collision>
      <origin xyz="0.0 0.0 0.0" rpy="0.0 -0.0 0.0"/>
      <geometry>
        <sphere radius="0.05"/>
      </geometry>
    </collision>
    <inertial>
      <origin xyz="0 0 0" rpy="0.0 -0.0 0.0"/>
      <mass value="0.0"/>
      <inertia ixx="0" ixy="0.0" ixz="0.0" iyy="0" iyz="0.0" izz="0"/>
    </inertial>
  </link>
  <link name="link36">
    <inertial>
      <origin xyz="0.0 0.0 0.0" rpy="0.0 -0.0 0.0"/>
      <mass value="0.0"/>
      <inertia ixx="0.0" ixy="0.0" ixz="0.0" iyy="0.0" iyz="0.0" izz="0.0"/>
    </inertial>
  </link>
  <link name="link37">
    <inertial>
      <origin xyz="0.0 0.0 0.0" rpy="0.0 -0.0 0.0"/>
      <mass value="0.0"/>
      <inertia ixx="0.0" ixy="0.0" ixz="0.0" iyy="0.0" iyz="0.0" izz="0.0"/>
    </inertial>
  </link>
  <link name="link38">
    <visual>
      <origin xyz="0.0 0.0 -0.212" rpy="0.0 -0.0 0.0"/>
      <geometry>
        <cylinder radius="0.08" length="0.424"/>
      </geometry>
      <material name="color-171-128-85-255">
        <color rgba="0.672940731048584 0.504705548286438 0.336470365524292 1.0"/>
      </material>
    </visual>
    <collision>
      <origin xyz="0.0 0.0 -0.21199999749660492" rpy="0.0 -0.0 0.0"/>
      <geometry>
        <cylinder radius="0.08" length="0.424"/>
      </geometry>
    </collision>
    <inertial>
      <origin xyz="0.0 0.0 0.0" rpy="0.0 -0.0 0.0"/>
      <mass value="0.0"/>
      <inertia ixx="0.0" ixy="0.0" ixz="0.0" iyy="0.0" iyz="0.0" izz="0.0"/>
    </inertial>
  </link>
  <link name="link38---top-sphere">
    <visual>
      <origin xyz="0 0 0" rpy="0.0 -0.0 0.0"/>
      <geometry>
        <sphere radius="0.08"/>
      </geometry>
      <material name="color-171-128-85-255">
        <color rgba="0.672940731048584 0.504705548286438 0.336470365524292 1.0"/>
      </material>
    </visual>
    <collision>
      <origin xyz="0.0 0.0 0.0" rpy="0.0 -0.0 0.0"/>
      <geometry>
        <sphere radius="0.08"/>
      </geometry>
    </collision>
    <inertial>
      <origin xyz="0 0 0" rpy="0.0 -0.0 0.0"/>
      <mass value="0.0"/>
      <inertia ixx="0" ixy="0.0" ixz="0.0" iyy="0" iyz="0.0" izz="0"/>
    </inertial>
  </link>
  <link name="link38---bottom-sphere">
    <visual>
      <origin xyz="0 0 0" rpy="0.0 -0.0 0.0"/>
      <geometry>
        <sphere radius="0.08"/>
      </geometry>
      <material name="color-171-128-85-255">
        <color rgba="0.672940731048584 0.504705548286438 0.336470365524292 1.0"/>
      </material>
    </visual>
    <collision>
      <origin xyz="0.0 0.0 0.0" rpy="0.0 -0.0 0.0"/>
      <geometry>
        <sphere radius="0.08"/>
      </geometry>
    </collision>
    <inertial>
      <origin xyz="0 0 0" rpy="0.0 -0.0 0.0"/>
      <mass value="0.0"/>
      <inertia ixx="0" ixy="0.0" ixz="0.0" iyy="0" iyz="0.0" izz="0"/>
    </inertial>
  </link>
  <link name="link39">
    <visual>
      <origin xyz="0.0 0.0 -0.2015" rpy="0.0 -0.0 0.0"/>
      <geometry>
        <cylinder radius="0.05" length="0.403"/>
      </geometry>
      <material name="color-171-128-85-255">
        <color rgba="0.672940731048584 0.504705548286438 0.336470365524292 1.0"/>
      </material>
    </visual>
    <collision>
      <origin xyz="0.0 0.0 -0.20149999856948853" rpy="0.0 -0.0 0.0"/>
      <geometry>
        <cylinder radius="0.05" length="0.403"/>
      </geometry>
    </collision>
    <inertial>
      <origin xyz="0.0 0.0 0.0" rpy="0.0 -0.0 0.0"/>
      <mass value="0.0"/>
      <inertia ixx="0.0" ixy="0.0" ixz="0.0" iyy="0.0" iyz="0.0" izz="0.0"/>
    </inertial>
  </link>
  <link name="link39---top-sphere">
    <visual>
      <origin xyz="0 0 0" rpy="0.0 -0.0 0.0"/>
      <geometry>
        <sphere radius="0.05"/>
      </geometry>
      <material name="color-171-128-85-255">
        <color rgba="0.672940731048584 0.504705548286438 0.336470365524292 1.0"/>
      </material>
    </visual>
    <collision>
      <origin xyz="0.0 0.0 0.0" rpy="0.0 -0.0 0.0"/>
      <geometry>
        <sphere radius="0.05"/>
      </geometry>
    </collision>
    <inertial>
      <origin xyz="0 0 0" rpy="0.0 -0.0 0.0"/>
      <mass value="0.0"/>
      <inertia ixx="0" ixy="0.0" ixz="0.0" iyy="0" iyz="0.0" izz="0"/>
    </inertial>
  </link>
  <link name="link39---bottom-sphere">
    <visual>
      <origin xyz="0 0 0" rpy="0.0 -0.0 0.0"/>
      <geometry>
        <sphere radius="0.05"/>
      </geometry>
      <material name="color-171-128-85-255">
        <color rgba="0.672940731048584 0.504705548286438 0.336470365524292 1.0"/>
      </material>
    </visual>
    <collision>
      <origin xyz="0.0 0.0 0.0" rpy="0.0 -0.0 0.0"/>
      <geometry>
        <sphere radius="0.05"/>
      </geometry>
    </collision>
    <inertial>
      <origin xyz="0 0 0" rpy="0.0 -0.0 0.0"/>
      <mass value="0.0"/>
      <inertia ixx="0" ixy="0.0" ixz="0.0" iyy="0" iyz="0.0" izz="0"/>
    </inertial>
  </link>
  <link name="link40">
    <inertial>
      <origin xyz="0.0 0.0 0.0" rpy="0.0 -0.0 0.0"/>
      <mass value="0.0"/>
      <inertia ixx="0.0" ixy="0.0" ixz="0.0" iyy="0.0" iyz="0.0" izz="0.0"/>
    </inertial>
  </link>
  <link name="link41">
    <inertial>
      <origin xyz="0.0 0.0 0.0" rpy="0.0 -0.0 0.0"/>
      <mass value="0.0"/>
      <inertia ixx="0.0" ixy="0.0" ixz="0.0" iyy="0.0" iyz="0.0" izz="0.0"/>
    </inertial>
  </link>
  <link name="link42">
    <visual>
      <origin xyz="0.0 -0.1 -0.025" rpy="1.5707963267948966 -0.0 0.0"/>
      <geometry>
        <cylinder radius="0.05" length="0.215"/>
      </geometry>
      <material name="color-171-128-85-255">
        <color rgba="0.672940731048584 0.504705548286438 0.336470365524292 1.0"/>
      </material>
    </visual>
    <collision>
      <origin xyz="0.0 -0.10000000149011612 -0.02500000037252903" rpy="1.5707963267948966 -0.0 0.0"/>
      <geometry>
        <cylinder radius="0.05" length="0.215"/>
      </geometry>
    </collision>
    <inertial>
      <origin xyz="0.0 0.0 0.0" rpy="0.0 -0.0 0.0"/>
      <mass value="0.0"/>
      <inertia ixx="0.0" ixy="0.0" ixz="0.0" iyy="0.0" iyz="0.0" izz="0.0"/>
    </inertial>
  </link>
  <link name="link42---top-sphere">
    <visual>
      <origin xyz="0 0 0" rpy="0.0 -0.0 0.0"/>
      <geometry>
        <sphere radius="0.05"/>
      </geometry>
      <material name="color-171-128-85-255">
        <color rgba="0.672940731048584 0.504705548286438 0.336470365524292 1.0"/>
      </material>
    </visual>
    <collision>
      <origin xyz="0.0 0.0 0.0" rpy="0.0 -0.0 0.0"/>
      <geometry>
        <sphere radius="0.05"/>
      </geometry>
    </collision>
    <inertial>
      <origin xyz="0 0 0" rpy="0.0 -0.0 0.0"/>
      <mass value="0.0"/>
      <inertia ixx="0" ixy="0.0" ixz="0.0" iyy="0" iyz="0.0" izz="0"/>
    </inertial>
  </link>
  <link name="link42---bottom-sphere">
    <visual>
      <origin xyz="0 0 0" rpy="0.0 -0.0 0.0"/>
      <geometry>
        <sphere radius="0.05"/>
      </geometry>
      <material name="color-171-128-85-255">
        <color rgba="0.672940731048584 0.504705548286438 0.336470365524292 1.0"/>
      </material>
    </visual>
    <collision>
      <origin xyz="0.0 0.0 0.0" rpy="0.0 -0.0 0.0"/>
      <geometry>
        <sphere radius="0.05"/>
      </geometry>
    </collision>
    <inertial>
      <origin xyz="0 0 0" rpy="0.0 -0.0 0.0"/>
      <mass value="0.0"/>
      <inertia ixx="0" ixy="0.0" ixz="0.0" iyy="0" iyz="0.0" izz="0"/>
    </inertial>
  </link>
  <joint name="base_link---top-sphere-fixed-joint" type="fixed">
    <parent link="base_link"/>
    <child link="base_link---top-sphere"/>
    <origin xyz="0.06350000202655792 0.0 0.0" rpy="0.0 -1.5707963267948966 0.0"/>
  </joint>
  <joint name="base_link---bottom-sphere-fixed-joint" type="fixed">
    <parent link="base_link"/>
    <child link="base_link---bottom-sphere"/>
    <origin xyz="-0.06350000202655792 0.0 0.0" rpy="0.0 -1.5707963267948966 0.0"/>
  </joint>
  <joint name="link3---top-sphere-fixed-joint" type="fixed">
    <parent link="link3"/>
    <child link="link3---top-sphere"/>
    <origin xyz="-0.03238749876618385 0.0 0.0" rpy="0.0 -1.5707963267948966 0.0"/>
  </joint>
  <joint name="link3---bottom-sphere-fixed-joint" type="fixed">
    <parent link="link3"/>
    <child link="link3---bottom-sphere"/>
    <origin xyz="-0.1383875012397766 0.0 0.0" rpy="0.0 -1.5707963267948966 0.0"/>
  </joint>
  <joint name="link13---top-sphere-fixed-joint" type="fixed">
    <parent link="link13"/>
    <child link="link13---top-sphere"/>
    <origin xyz="0.0 0.0 -0.11800000816583633" rpy="0.0 -0.0 0.0"/>
  </joint>
  <joint name="link13---bottom-sphere-fixed-joint" type="fixed">
    <parent link="link13"/>
    <child link="link13---bottom-sphere"/>
    <origin xyz="0.0 0.0 -0.16100001335144043" rpy="0.0 -0.0 0.0"/>
  </joint>
  <joint name="link15---top-sphere-fixed-joint" type="fixed">
    <parent link="link15"/>
    <child link="link15---top-sphere"/>
    <origin xyz="0.0 0.0 -0.1120000034570694" rpy="0.0 -0.0 0.0"/>
  </joint>
  <joint name="link15---bottom-sphere-fixed-joint" type="fixed">
    <parent link="link15"/>
    <child link="link15---bottom-sphere"/>
    <origin xyz="0.0 0.0 -0.14499999582767487" rpy="0.0 -0.0 0.0"/>
  </joint>
  <joint name="link6---top-sphere-fixed-joint" type="fixed">
    <parent link="link6"/>
    <child link="link6---top-sphere"/>
    <origin xyz="0.1383875012397766 0.0 0.0" rpy="0.0 -1.5707963267948966 0.0"/>
  </joint>
  <joint name="link6---bottom-sphere-fixed-joint" type="fixed">
    <parent link="link6"/>
    <child link="link6---bottom-sphere"/>
    <origin xyz="0.03238749876618385 0.0 0.0" rpy="0.0 -1.5707963267948966 0.0"/>
  </joint>
  <joint name="link20---top-sphere-fixed-joint" type="fixed">
    <parent link="link20"/>
    <child link="link20---top-sphere"/>
    <origin xyz="0.0 0.0 -0.11800000816583633" rpy="0.0 -0.0 0.0"/>
  </joint>
  <joint name="link20---bottom-sphere-fixed-joint" type="fixed">
    <parent link="link20"/>
    <child link="link20---bottom-sphere"/>
    <origin xyz="0.0 0.0 -0.16100001335144043" rpy="0.0 -0.0 0.0"/>
  </joint>
  <joint name="link22---top-sphere-fixed-joint" type="fixed">
    <parent link="link22"/>
    <child link="link22---top-sphere"/>
    <origin xyz="0.0 0.0 -0.1120000034570694" rpy="0.0 -0.0 0.0"/>
  </joint>
  <joint name="link22---bottom-sphere-fixed-joint" type="fixed">
    <parent link="link22"/>
    <child link="link22---bottom-sphere"/>
    <origin xyz="0.0 0.0 -0.14499999582767487" rpy="0.0 -0.0 0.0"/>
  </joint>
  <joint name="link7---top-sphere-fixed-joint" type="fixed">
    <parent link="link7"/>
    <child link="link7---top-sphere"/>
    <origin xyz="0.0 0.0 0.12000000476837158" rpy="0.0 -0.0 0.0"/>
  </joint>
  <joint name="link7---bottom-sphere-fixed-joint" type="fixed">
    <parent link="link7"/>
    <child link="link7---bottom-sphere"/>
    <origin xyz="0.0 0.0 0.06000000238418579" rpy="0.0 -0.0 0.0"/>
  </joint>
  <joint name="link25---top-sphere-fixed-joint" type="fixed">
    <parent link="link25"/>
    <child link="link25---top-sphere"/>
    <origin xyz="0.06024999916553497 0.0 0.0" rpy="0.0 -1.5707963267948966 0.0"/>
  </joint>
  <joint name="link25---bottom-sphere-fixed-joint" type="fixed">
    <parent link="link25"/>
    <child link="link25---bottom-sphere"/>
    <origin xyz="-0.06024999916553497 0.0 0.0" rpy="0.0 -1.5707963267948966 0.0"/>
  </joint>
  <joint name="link28---top-sphere-fixed-joint" type="fixed">
    <parent link="link28"/>
    <child link="link28---top-sphere"/>
    <origin xyz="0.06674999743700027 0.0 -0.08124999701976776" rpy="0.0 -1.5707963267948966 0.0"/>
  </joint>
  <joint name="link28---bottom-sphere-fixed-joint" type="fixed">
    <parent link="link28"/>
    <child link="link28---bottom-sphere"/>
    <origin xyz="-0.06674999743700027 0.0 -0.08124999701976776" rpy="0.0 -1.5707963267948966 0.0"/>
  </joint>
  <joint name="link31---top-sphere-fixed-joint" type="fixed">
    <parent link="link31"/>
    <child link="link31---top-sphere"/>
    <origin xyz="0.0 0.0 -0.171999990940094" rpy="0.0 -0.0 0.0"/>
  </joint>
  <joint name="link31---bottom-sphere-fixed-joint" type="fixed">
    <parent link="link31"/>
    <child link="link31---bottom-sphere"/>
    <origin xyz="0.0 0.0 -0.25200000405311584" rpy="0.0 -0.0 0.0"/>
  </joint>
  <joint name="link32---top-sphere-fixed-joint" type="fixed">
    <parent link="link32"/>
    <child link="link32---top-sphere"/>
    <origin xyz="0.0 0.0 -0.17649999260902405" rpy="0.0 -0.0 0.0"/>
  </joint>
  <joint name="link32---bottom-sphere-fixed-joint" type="fixed">
    <parent link="link32"/>
    <child link="link32---bottom-sphere"/>
    <origin xyz="0.0 0.0 -0.226500004529953" rpy="0.0 -0.0 0.0"/>
  </joint>
  <joint name="link35---top-sphere-fixed-joint" type="fixed">
    <parent link="link35"/>
    <child link="link35---top-sphere"/>
    <origin xyz="0.0 -0.125 -0.02500000037252903" rpy="-1.5707963267948966 0.0 0.0"/>
  </joint>
  <joint name="link35---bottom-sphere-fixed-joint" type="fixed">
    <parent link="link35"/>
    <child link="link35---bottom-sphere"/>
    <origin xyz="0.0 -0.07500000298023224 -0.02500000037252903" rpy="-1.5707963267948966 0.0 0.0"/>
  </joint>
  <joint name="link38---top-sphere-fixed-joint" type="fixed">
    <parent link="link38"/>
    <child link="link38---top-sphere"/>
    <origin xyz="0.0 0.0 -0.171999990940094" rpy="0.0 -0.0 0.0"/>
  </joint>
  <joint name="link38---bottom-sphere-fixed-joint" type="fixed">
    <parent link="link38"/>
    <child link="link38---bottom-sphere"/>
    <origin xyz="0.0 0.0 -0.25200000405311584" rpy="0.0 -0.0 0.0"/>
  </joint>
  <joint name="link39---top-sphere-fixed-joint" type="fixed">
    <parent link="link39"/>
    <child link="link39---top-sphere"/>
    <origin xyz="0.0 0.0 -0.17649999260902405" rpy="0.0 -0.0 0.0"/>
  </joint>
  <joint name="link39---bottom-sphere-fixed-joint" type="fixed">
    <parent link="link39"/>
    <child link="link39---bottom-sphere"/>
    <origin xyz="0.0 0.0 -0.226500004529953" rpy="0.0 -0.0 0.0"/>
  </joint>
  <joint name="link42---top-sphere-fixed-joint" type="fixed">
    <parent link="link42"/>
    <child link="link42---top-sphere"/>
    <origin xyz="0.0 -0.125 -0.02500000037252903" rpy="-1.5707963267948966 0.0 0.0"/>
  </joint>
  <joint name="link42---bottom-sphere-fixed-joint" type="fixed">
    <parent link="link42"/>
    <child link="link42---bottom-sphere"/>
    <origin xyz="0.0 -0.07500000298023224 -0.02500000037252903" rpy="-1.5707963267948966 0.0 0.0"/>
  </joint>
  <joint name="joint1" type="revolute">
    <parent link="base_link"/>
    <child link="link1"/>
    <origin xyz="0.0 0.0 0.07074999809265137" rpy="0.0 -0.0 0.0"/>
    <axis xyz="1.0 0.0 0.0"/>
    <limit effort="0.0" velocity="0.0" lower="-0.17453292519943295" upper="0.17453292519943295"/>
  </joint>
  <joint name="joint2" type="revolute">
    <parent link="link1"/>
    <child link="link2"/>
    <origin xyz="0.0 0.0 0.07074999809265137" rpy="0.0 -0.0 0.0"/>
    <axis xyz="0.0 1.0 0.0"/>
    <limit effort="0.0" velocity="0.0" lower="-0.17453292519943295" upper="0.5235987755982988"/>
  </joint>
  <joint name="joint3" type="revolute">
    <parent link="link2"/>
    <child link="link3"/>
    <origin xyz="0.0 0.0 0.0" rpy="0.0 -0.0 0.0"/>
    <axis xyz="0.0 0.0 1.0"/>
    <limit effort="0.0" velocity="0.0" lower="-0.6108652381980153" upper="0.6108652381980153"/>
  </joint>
  <joint name="joint11" type="revolute">
    <parent link="link3"/>
    <child link="link11"/>
    <origin xyz="-0.17900000512599945 0.0 0.0" rpy="0.0 -0.0 0.0"/>
    <axis xyz="0.0 1.0 0.0"/>
    <limit effort="0.0" velocity="0.0" lower="0.08726646259971647" upper="3.4557519189487724"/>
  </joint>
  <joint name="joint12" type="revolute">
    <parent link="link11"/>
    <child link="link12"/>
    <origin xyz="0.0 0.0 0.0" rpy="0.0 -0.0 0.0"/>
    <axis xyz="1.0 0.0 0.0"/>
    <limit effort="0.0" velocity="0.0" lower="-3.2812189937493397" upper="1.064650843716541"/>
  </joint>
  <joint name="joint13" type="revolute">
    <parent link="link12"/>
    <child link="link13"/>
    <origin xyz="0.0 0.0 0.0" rpy="0.0 -0.0 0.0"/>
    <axis xyz="0.0 0.0 1.0"/>
    <limit effort="0.0" velocity="0.0" lower="-1.5707963267948966" upper="1.5707963267948966"/>
  </joint>
  <joint name="joint14" type="revolute">
    <parent link="link13"/>
    <child link="link14"/>
    <origin xyz="0.0 0.0 -0.27900001406669617" rpy="0.0 -0.0 0.0"/>
    <axis xyz="1.0 0.0 0.0"/>
    <limit effort="0.0" velocity="0.0" lower="-2.234021442552742" upper="0.0"/>
  </joint>
  <joint name="joint15" type="revolute">
    <parent link="link14"/>
    <child link="link15"/>
    <origin xyz="0.0 0.0 0.0" rpy="0.0 -0.0 0.0"/>
    <axis xyz="0.0 0.0 1.0"/>
    <limit effort="0.0" velocity="0.0" lower="-1.5707963267948966" upper="1.5707963267948966"/>
  </joint>
  <joint name="joint16" type="revolute">
    <parent link="link15"/>
    <child link="link16"/>
    <origin xyz="0.0 0.0 -0.28999999165534973" rpy="0.0 -0.0 0.0"/>
    <axis xyz="1.0 0.0 0.0"/>
    <limit effort="0.0" velocity="0.0" lower="-1.413716694115407" upper="1.5707963267948966"/>
  </joint>
  <joint name="joint17" type="revolute">
    <parent link="link16"/>
    <child link="link17"/>
    <origin xyz="0.0 0.0 0.0" rpy="0.0 -0.0 0.0"/>
    <axis xyz="0.0 1.0 0.0"/>
    <limit effort="0.0" velocity="0.0" lower="-0.47123889803846897" upper="0.8203047484373349"/>
  </joint>
  <joint name="joint4" type="revolute">
    <parent link="base_link"/>
    <child link="link4"/>
    <origin xyz="0.0 0.0 0.07074999809265137" rpy="0.0 -0.0 0.0"/>
    <axis xyz="1.0 0.0 0.0"/>
    <limit effort="0.0" velocity="0.0" lower="-0.17453292519943295" upper="0.17453292519943295"/>
  </joint>
  <joint name="joint5" type="revolute">
    <parent link="link4"/>
    <child link="link5"/>
    <origin xyz="0.0 0.0 0.07074999809265137" rpy="0.0 -0.0 0.0"/>
    <axis xyz="0.0 1.0 0.0"/>
    <limit effort="0.0" velocity="0.0" lower="-0.5235987755982988" upper="0.17453292519943295"/>
  </joint>
  <joint name="joint6" type="revolute">
    <parent link="link5"/>
    <child link="link6"/>
    <origin xyz="0.0 0.0 0.0" rpy="0.0 -0.0 0.0"/>
    <axis xyz="0.0 0.0 1.0"/>
    <limit effort="0.0" velocity="0.0" lower="-0.6108652381980153" upper="0.6108652381980153"/>
  </joint>
  <joint name="joint18" type="revolute">
    <parent link="link6"/>
    <child link="link18"/>
    <origin xyz="0.17900000512599945 0.0 0.0" rpy="0.0 -0.0 0.0"/>
    <axis xyz="0.0 1.0 0.0"/>
    <limit effort="0.0" velocity="0.0" lower="-3.4557519189487724" upper="-0.08726646259971647"/>
  </joint>
  <joint name="joint19" type="revolute">
    <parent link="link18"/>
    <child link="link19"/>
    <origin xyz="0.0 0.0 0.0" rpy="0.0 -0.0 0.0"/>
    <axis xyz="1.0 0.0 0.0"/>
    <limit effort="0.0" velocity="0.0" lower="-3.2812189937493397" upper="1.064650843716541"/>
  </joint>
  <joint name="joint20" type="revolute">
    <parent link="link19"/>
    <child link="link20"/>
    <origin xyz="0.0 0.0 0.0" rpy="0.0 -0.0 0.0"/>
    <axis xyz="0.0 0.0 1.0"/>
    <limit effort="0.0" velocity="0.0" lower="-1.5707963267948966" upper="1.5707963267948966"/>
  </joint>
  <joint name="joint21" type="revolute">
    <parent link="link20"/>
    <child link="link21"/>
    <origin xyz="0.0 0.0 -0.27900001406669617" rpy="0.0 -0.0 0.0"/>
    <axis xyz="1.0 0.0 0.0"/>
    <limit effort="0.0" velocity="0.0" lower="-2.234021442552742" upper="0.0"/>
  </joint>
  <joint name="joint22" type="revolute">
    <parent link="link21"/>
    <child link="link22"/>
    <origin xyz="0.0 0.0 0.0" rpy="0.0 -0.0 0.0"/>
    <axis xyz="0.0 0.0 1.0"/>
    <limit effort="0.0" velocity="0.0" lower="-1.5707963267948966" upper="1.5707963267948966"/>
  </joint>
  <joint name="joint23" type="revolute">
    <parent link="link22"/>
    <child link="link23"/>
    <origin xyz="0.0 0.0 -0.28999999165534973" rpy="0.0 -0.0 0.0"/>
    <axis xyz="1.0 0.0 0.0"/>
    <limit effort="0.0" velocity="0.0" lower="-1.413716694115407" upper="1.5707963267948966"/>
  </joint>
  <joint name="joint24" type="revolute">
    <parent link="link23"/>
    <child link="link24"/>
    <origin xyz="0.0 0.0 0.0" rpy="0.0 -0.0 0.0"/>
    <axis xyz="0.0 1.0 0.0"/>
    <limit effort="0.0" velocity="0.0" lower="-0.8203047484373349" upper="0.47123889803846897"/>
  </joint>
  <joint name="joint7" type="revolute">
    <parent link="base_link"/>
    <child link="link7"/>
    <origin xyz="0.0 0.0 0.15150000154972076" rpy="0.0 -0.0 0.0"/>
    <axis xyz="1.0 0.0 0.0"/>
    <limit effort="0.0" velocity="0.0" lower="-0.17453292519943295" upper="0.3490658503988659"/>
  </joint>
  <joint name="joint8" type="revolute">
    <parent link="link7"/>
    <child link="link8"/>
    <origin xyz="0.0 0.0 0.13699999451637268" rpy="0.0 -0.0 0.0"/>
    <axis xyz="1.0 0.0 0.0"/>
    <limit effort="0.0" velocity="0.0" lower="-0.8726646259971648" upper="0.8726646259971648"/>
  </joint>
  <joint name="joint9" type="revolute">
    <parent link="link8"/>
    <child link="link9"/>
    <origin xyz="0.0 0.0 0.0" rpy="0.0 -0.0 0.0"/>
    <axis xyz="0.0 1.0 0.0"/>
    <limit effort="0.0" velocity="0.0" lower="-0.5934119456780721" upper="0.5934119456780721"/>
  </joint>
  <joint name="joint10" type="revolute">
    <parent link="link9"/>
    <child link="link10"/>
    <origin xyz="0.0 0.0 0.0" rpy="0.0 -0.0 0.0"/>
    <axis xyz="0.0 0.0 1.0"/>
    <limit effort="0.0" velocity="0.0" lower="-1.2217304763960306" upper="1.2217304763960306"/>
  </joint>
  <joint name="joint25" type="fixed">
    <parent link="base_link"/>
    <child link="link25"/>
    <origin xyz="0.0 0.0 -0.15600000321865082" rpy="0.0 -0.0 0.0"/>
  </joint>
  <joint name="joint26" type="revolute">
    <parent link="link25"/>
    <child link="link26"/>
    <origin xyz="0.0 0.0 -0.08124999701976776" rpy="0.0 -0.0 0.0"/>
    <axis xyz="1.0 0.0 0.0"/>
    <limit effort="0.0" velocity="0.0" lower="-1.3089969389957472" upper="0.5235987755982988"/>
  </joint>
  <joint name="joint27" type="revolute">
    <parent link="link26"/>
    <child link="link27"/>
    <origin xyz="0.0 0.0 0.0" rpy="0.0 -0.0 0.0"/>
    <axis xyz="0.0 1.0 0.0"/>
    <limit effort="0.0" velocity="0.0" lower="-0.5235987755982988" upper="0.5235987755982988"/>
  </joint>
  <joint name="joint28" type="revolute">
    <parent link="link27"/>
    <child link="link28"/>
    <origin xyz="0.0 0.0 0.0" rpy="0.0 -0.0 0.0"/>
    <axis xyz="0.0 0.0 1.0"/>
    <limit effort="0.0" velocity="0.0" lower="-0.5235987755982988" upper="0.5235987755982988"/>
  </joint>
  <joint name="joint29" type="revolute">
    <parent link="link28"/>
    <child link="link29"/>
    <origin xyz="-0.08900000154972076 0.0 -0.08124999701976776" rpy="0.0 -0.0 0.0"/>
    <axis xyz="1.0 0.0 0.0"/>
    <limit effort="0.0" velocity="0.0" lower="-2.2165681500327987" upper="0.5235987755982988"/>
  </joint>
  <joint name="joint30" type="revolute">
    <parent link="link29"/>
    <child link="link30"/>
    <origin xyz="0.0 0.0 0.0" rpy="0.0 -0.0 0.0"/>
    <axis xyz="0.0 1.0 0.0"/>
    <limit effort="0.0" velocity="0.0" lower="-0.6981317007977318" upper="0.7853981633974483"/>
  </joint>
  <joint name="joint31" type="revolute">
    <parent link="link30"/>
    <child link="link31"/>
    <origin xyz="0.0 0.0 0.0" rpy="0.0 -0.0 0.0"/>
    <axis xyz="0.0 0.0 1.0"/>
    <limit effort="0.0" velocity="0.0" lower="-0.7853981633974483" upper="0.6981317007977318"/>
  </joint>
  <joint name="joint32" type="revolute">
    <parent link="link31"/>
    <child link="link32"/>
    <origin xyz="0.0 0.0 -0.42399999499320984" rpy="0.0 -0.0 0.0"/>
    <axis xyz="1.0 0.0 0.0"/>
    <limit effort="0.0" velocity="0.0" lower="0.0" upper="2.2689280275926285"/>
  </joint>
  <joint name="joint33" type="revolute">
    <parent link="link32"/>
    <child link="link33"/>
    <origin xyz="0.0 0.0 -0.42800000309944153" rpy="0.0 -0.0 0.0"/>
    <axis xyz="1.0 0.0 0.0"/>
    <limit effort="0.0" velocity="0.0" lower="-0.6108652381980153" upper="0.6632251157578453"/>
  </joint>
  <joint name="joint34" type="revolute">
    <parent link="link33"/>
    <child link="link34"/>
    <origin xyz="0.0 0.0 0.0" rpy="0.0 -0.0 0.0"/>
    <axis xyz="0.0 1.0 0.0"/>
    <limit effort="0.0" velocity="0.0" lower="-0.4014257279586958" upper="0.4188790204786391"/>
  </joint>
  <joint name="joint35" type="revolute">
    <parent link="link34"/>
    <child link="link35"/>
    <origin xyz="0.0 0.0 0.0" rpy="0.0 -0.0 0.0"/>
    <axis xyz="0.0 0.0 1.0"/>
    <limit effort="0.0" velocity="0.0" lower="-0.7504915783575618" upper="0.6108652381980153"/>
  </joint>
  <joint name="joint36" type="revolute">
    <parent link="link28"/>
    <child link="link36"/>
    <origin xyz="0.08900000154972076 0.0 -0.08124999701976776" rpy="0.0 -0.0 0.0"/>
    <axis xyz="1.0 0.0 0.0"/>
    <limit effort="0.0" velocity="0.0" lower="-2.2165681500327987" upper="0.5235987755982988"/>
  </joint>
  <joint name="joint37" type="revolute">
    <parent link="link36"/>
    <child link="link37"/>
    <origin xyz="0.0 0.0 0.0" rpy="0.0 -0.0 0.0"/>
    <axis xyz="0.0 1.0 0.0"/>
    <limit effort="0.0" velocity="0.0" lower="-0.7853981633974483" upper="0.6981317007977318"/>
  </joint>
  <joint name="joint38" type="revolute">
    <parent link="link37"/>
    <child link="link38"/>
    <origin xyz="0.0 0.0 0.0" rpy="0.0 -0.0 0.0"/>
    <axis xyz="0.0 0.0 1.0"/>
    <limit effort="0.0" velocity="0.0" lower="-0.6981317007977318" upper="0.7853981633974483"/>
  </joint>
  <joint name="joint39" type="revolute">
    <parent link="link38"/>
    <child link="link39"/>
    <origin xyz="0.0 0.0 -0.42399999499320984" rpy="0.0 -0.0 0.0"/>
    <axis xyz="1.0 0.0 0.0"/>
    <limit effort="0.0" velocity="0.0" lower="0.0" upper="2.2689280275926285"/>
  </joint>
  <joint name="joint40" type="revolute">
    <parent link="link39"/>
    <child link="link40"/>
    <origin xyz="0.0 0.0 -0.42800000309944153" rpy="0.0 -0.0 0.0"/>
    <axis xyz="1.0 0.0 0.0"/>
    <limit effort="0.0" velocity="0.0" lower="-0.6108652381980153" upper="0.6632251157578453"/>
  </joint>
  <joint name="joint41" type="revolute">
    <parent link="link40"/>
    <child link="link41"/>
    <origin xyz="0.0 0.0 0.0" rpy="0.0 -0.0 0.0"/>
    <axis xyz="0.0 1.0 0.0"/>
    <limit effort="0.0" velocity="0.0" lower="-0.4188790204786391" upper="0.4014257279586958"/>
  </joint>
  <joint name="joint42" type="revolute">
    <parent link="link41"/>
    <child link="link42"/>
    <origin xyz="0.0 0.0 0.0" rpy="0.0 -0.0 0.0"/>
    <axis xyz="0.0 0.0 1.0"/>
    <limit effort="0.0" velocity="0.0" lower="-0.6108652381980153" upper="0.7504915783575618"/>
  </joint>
</robot>
